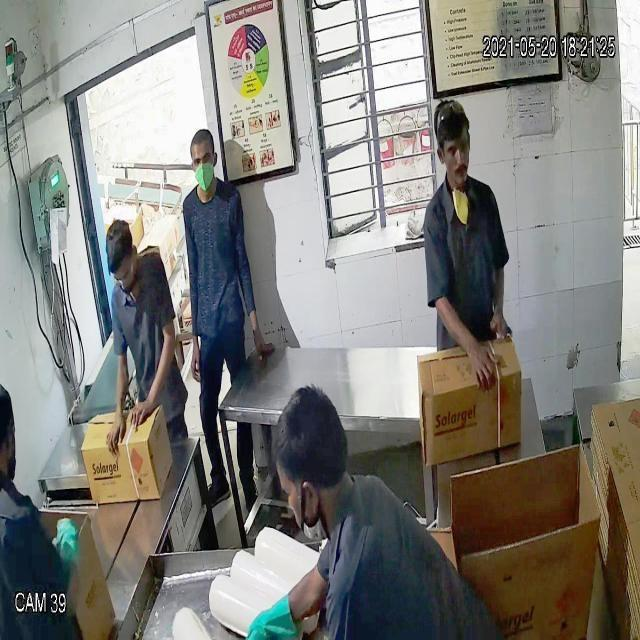apron: (243, 588, 306, 640), (49, 513, 90, 583)
hairnet: (273, 460, 334, 553)
mask: (191, 150, 219, 193)
no_apron: (462, 335, 504, 396), (101, 412, 128, 454), (128, 394, 158, 431), (187, 337, 206, 382)
no_gloves: (267, 374, 353, 493), (427, 93, 474, 153), (101, 218, 136, 275), (186, 126, 219, 168)
no_hairnet: (443, 148, 476, 185)
